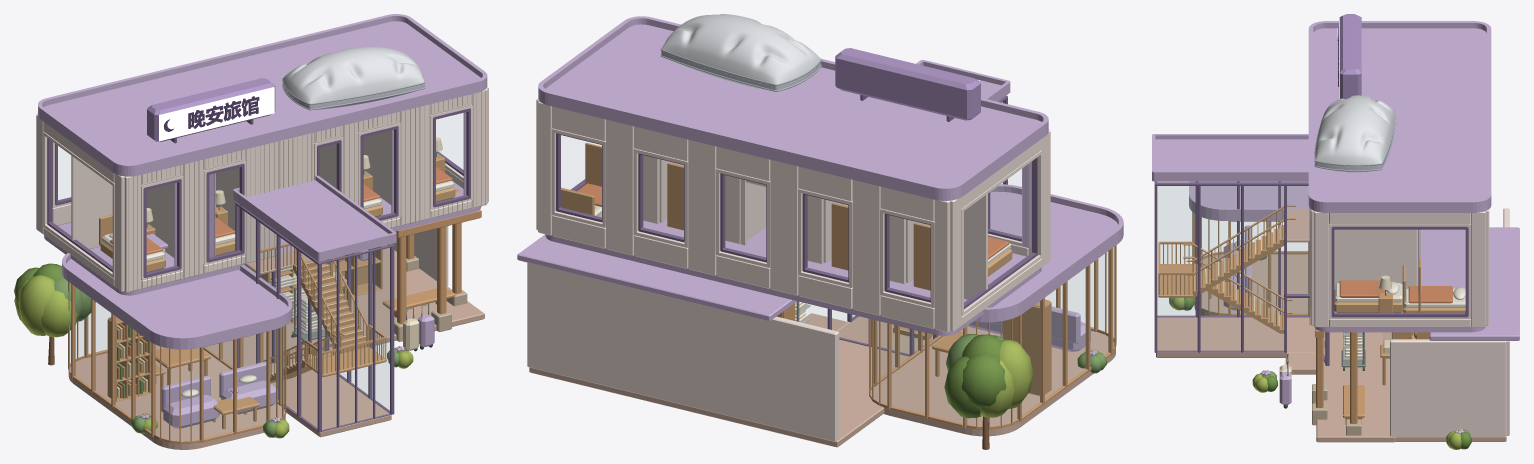
3 renders of one model, left to right at view 1: azimuth 30°, elevation 25°; view 2: azimuth 150°, elevation 25°; view 3: azimuth 270°, elevation 25°, orthographic. The views are drawn at different scales.
Parts seen in each view (by area): view 1: R 客房翼柔紫平屋顶, A 墙体, R 公共翼圆角平屋顶, A 休息翼弧形落地窗, R 客房翼圆角女儿墙, A 圆角窗框, R 折返楼梯塔柔紫平盖, S 休息翼楼面, D 大白枕头鼓起及凹褶表面, D 客房竖向肋板, A 折返楼梯塔玻璃, A 窗角实墙 (+42 smaller); view 2: A 后勤后墙, R 客房翼柔紫平屋顶, A 墙体, A 休息翼弧形落地窗, A 窗角实墙, R 客房翼圆角女儿墙, A 窗上墙, R 后勤平屋面, D 大白枕头鼓起及凹褶表面, S 休息翼楼面, A 窗下墙, D 晚安旅馆灯箱外壳 (+22 smaller); view 3: R 客房翼柔紫平屋顶, A 后勤侧墙, R 折返楼梯塔柔紫平盖, S 玻璃楼梯塔底, S 旅馆门廊连通楼面, R 客房翼圆角女儿墙, D 大白枕头鼓起及凹褶表面, A 客房隔墙, A 墙体, R 后勤平屋面, S 二层客房楼板, S 休息翼楼面 (+34 smaller).
Part boxes in pixels (bbox=[...]): R 客房翼柔紫平屋顶: bbox=[38, 21, 487, 176]; A 墙体: bbox=[36, 86, 488, 292]; R 公共翼圆角平屋顶: bbox=[62, 259, 292, 349]; A 休息翼弧形落地窗: bbox=[68, 281, 286, 443]; R 客房翼圆角女儿墙: bbox=[38, 14, 487, 172]; A 圆角窗框: bbox=[47, 108, 470, 277]; R 折返楼梯塔柔紫平盖: bbox=[233, 180, 396, 261]; S 休息翼楼面: bbox=[68, 342, 285, 449]; D 大白枕头鼓起及凹褶表面: bbox=[283, 46, 424, 103]; D 客房竖向肋板: bbox=[128, 90, 486, 292]; A 折返楼梯塔玻璃: bbox=[235, 202, 392, 432]; A 窗角实墙: bbox=[43, 105, 472, 280]; A 后勤后墙: bbox=[527, 262, 839, 441]; R 客房翼柔紫平屋顶: bbox=[538, 24, 1048, 200]; A 墙体: bbox=[536, 99, 1050, 332]; A 休息翼弧形落地窗: bbox=[869, 245, 1116, 429]; A 窗角实墙: bbox=[551, 128, 1042, 316]; R 客房翼圆角女儿墙: bbox=[538, 16, 1048, 195]; A 窗上墙: bbox=[552, 106, 1041, 221]; R 后勤平屋面: bbox=[517, 234, 796, 321]; D 大白枕头鼓起及凹褶表面: bbox=[661, 14, 820, 84]; S 休息翼楼面: bbox=[870, 326, 1115, 436]; A 窗下墙: bbox=[552, 215, 1041, 328]; D 晚安旅馆灯箱外壳: bbox=[835, 48, 980, 120]; R 客房翼柔紫平屋顶: bbox=[1308, 28, 1491, 212]; A 后勤侧墙: bbox=[1390, 339, 1506, 436]; R 折返楼梯塔柔紫平盖: bbox=[1152, 139, 1308, 181]; S 玻璃楼梯塔底: bbox=[1156, 317, 1315, 357]; S 旅馆门廊连通楼面: bbox=[1316, 332, 1395, 442]; R 客房翼圆角女儿墙: bbox=[1308, 21, 1491, 208]; D 大白枕头鼓起及凹褶表面: bbox=[1315, 95, 1394, 164]; A 客房隔墙: bbox=[1334, 229, 1417, 289]; A 墙体: bbox=[1310, 209, 1489, 327]; R 后勤平屋面: bbox=[1429, 227, 1519, 340]; S 二层客房楼板: bbox=[1314, 229, 1485, 332]; S 休息翼楼面: bbox=[1194, 254, 1308, 315].
Size of the model in its own units: 22.37 by 14.07 by 16.73.
